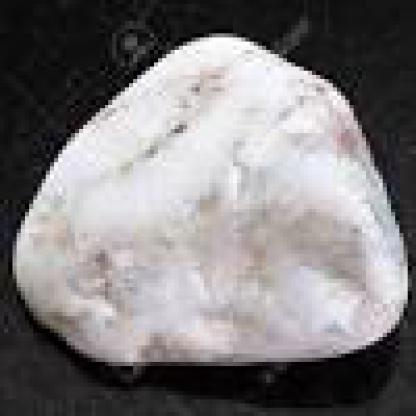Metamorphic_Marble: (8, 25, 408, 370)
